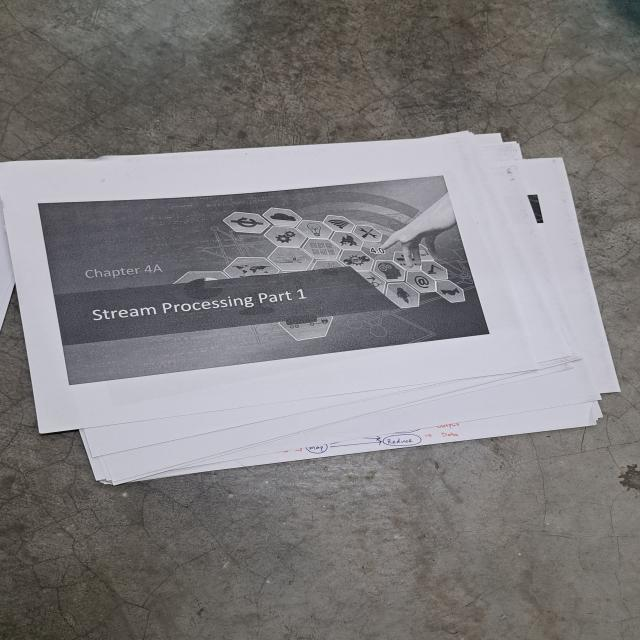paper: (0, 130, 618, 484)
